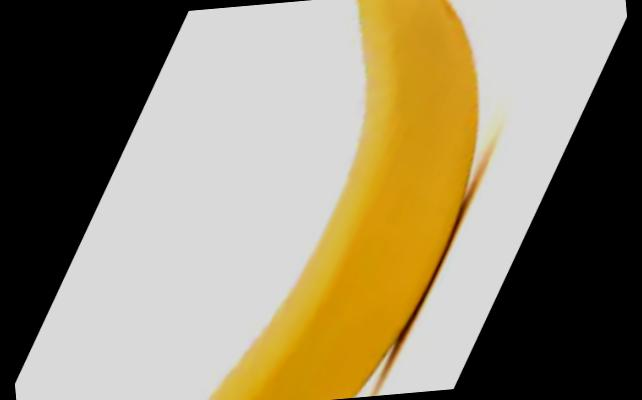Banana Ripe: (95, 0, 518, 400)
